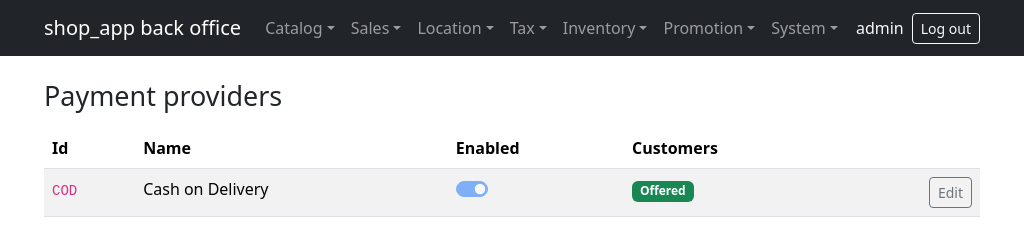
Test: Payment providers page › edits the name and the enabled switch, then saves
Click the button "Edit": (950, 193) [929,177,972,208]
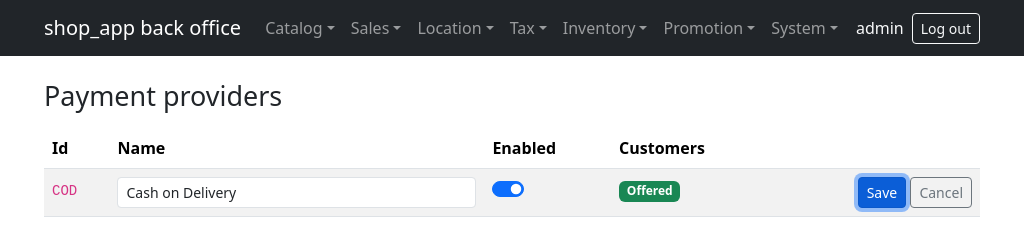
Replace the text in the field named "Name" with "Pay on delivery": (297, 193) [118,177,476,208]
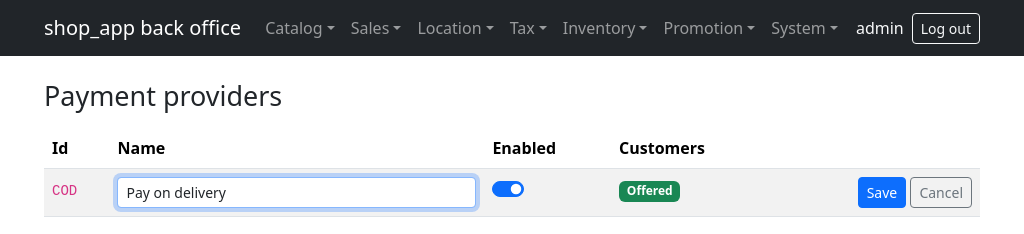
Click the checkbox named "Enabled": (508, 189) [492,181,524,197]
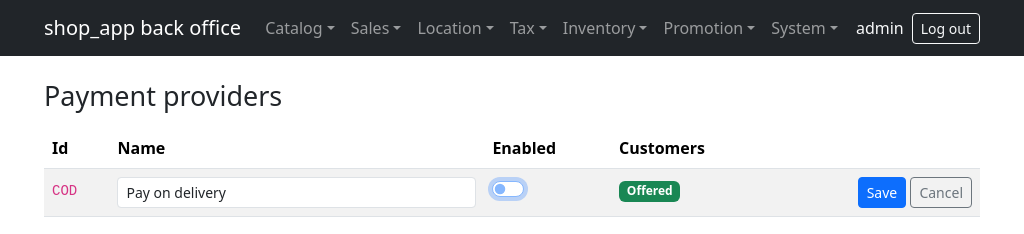
Click the button "Save": (882, 193) [858,177,906,208]
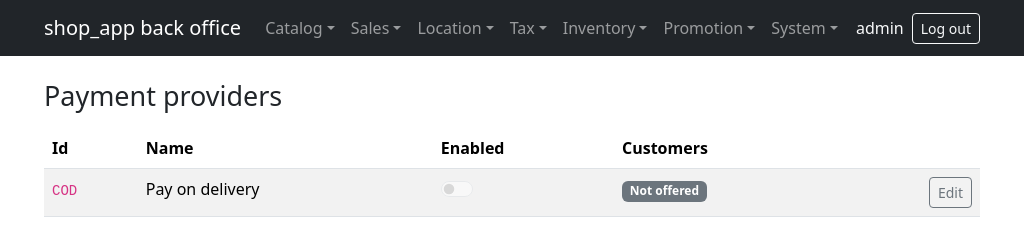
Check: the text "Pay on delivery" is shown, box [138,169,433,217]
